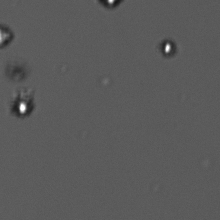Dead Cell: (6, 63, 30, 82), (1, 22, 17, 50)
Living Cell: (8, 89, 39, 120), (154, 36, 181, 61), (97, 1, 125, 13)
